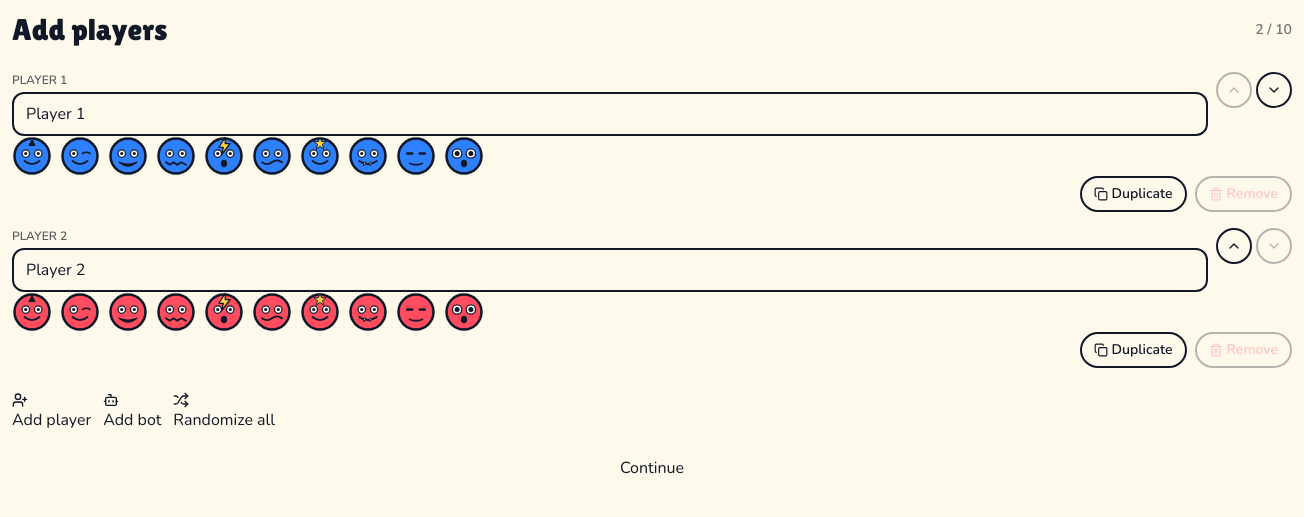
Test case: PlayerSetupScreen › disables Continue and shows an error when a name is cleared
The width and height of the screenshot is (1304, 517).
Clear the field labelled "Player 1" at (610, 114), box left=12, top=92, right=1208, bottom=136
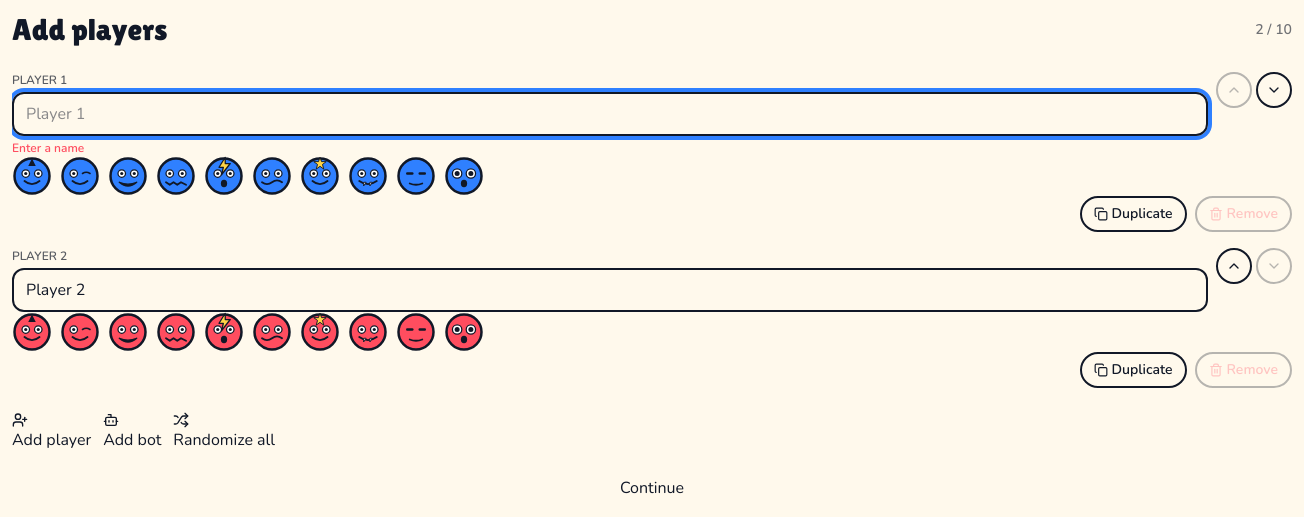
Result: the text "Enter a name" is shown at left=12, top=140, right=84, bottom=156
Result: the button "Continue" is disabled at left=12, top=476, right=1292, bottom=500
